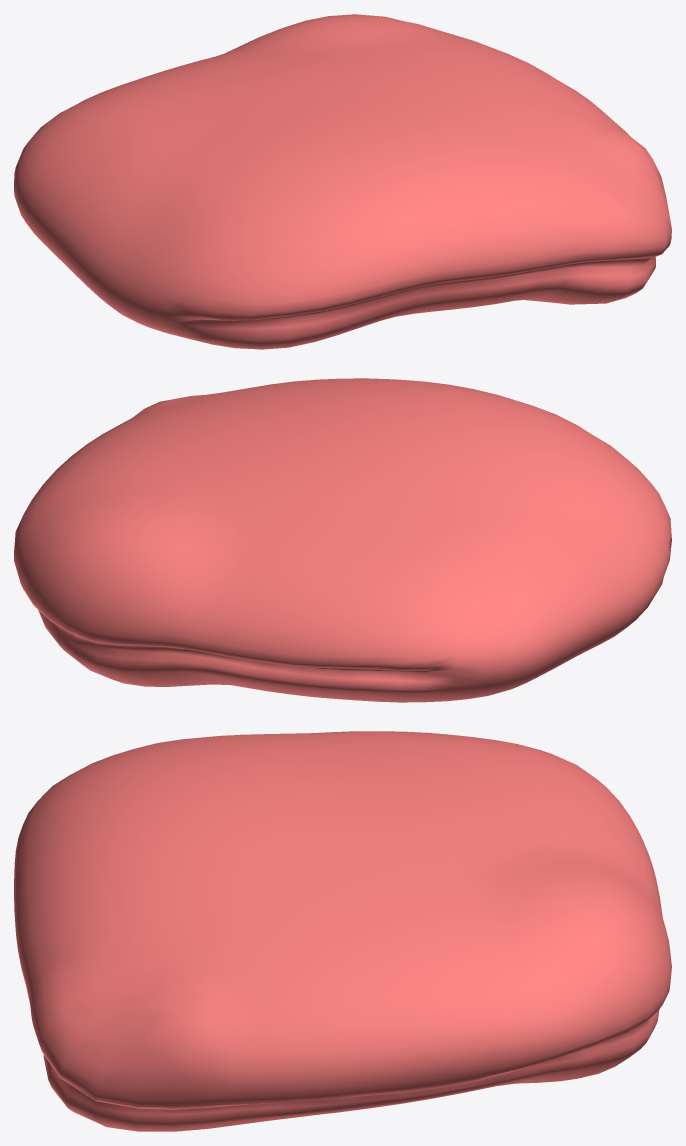
Rendered from Hab_E_Mantica.fbx.
The picture shows the model from 3 angles, top to bottom: view 1: azimuth 30°, elevation 25°; view 2: azimuth 150°, elevation 25°; view 3: azimuth 270°, elevation 25°; orthographic projection. The views are drawn at different scales.
Parts seen in each view (by area): view 1: PolySphere1; view 2: PolySphere1; view 3: PolySphere1.
Part boxes in pixels (bbox=[...]): PolySphere1: bbox=[14, 14, 671, 349]; PolySphere1: bbox=[14, 378, 671, 702]; PolySphere1: bbox=[14, 731, 671, 1131].
Bounding box in the file's own units: 2.33 × 2.11 × 0.7694.
